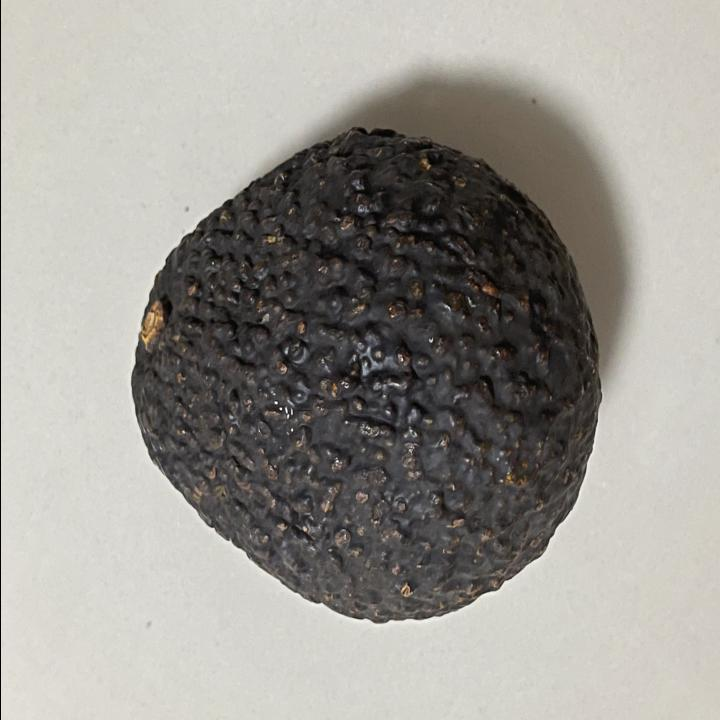Level3: (113, 114, 609, 636)
